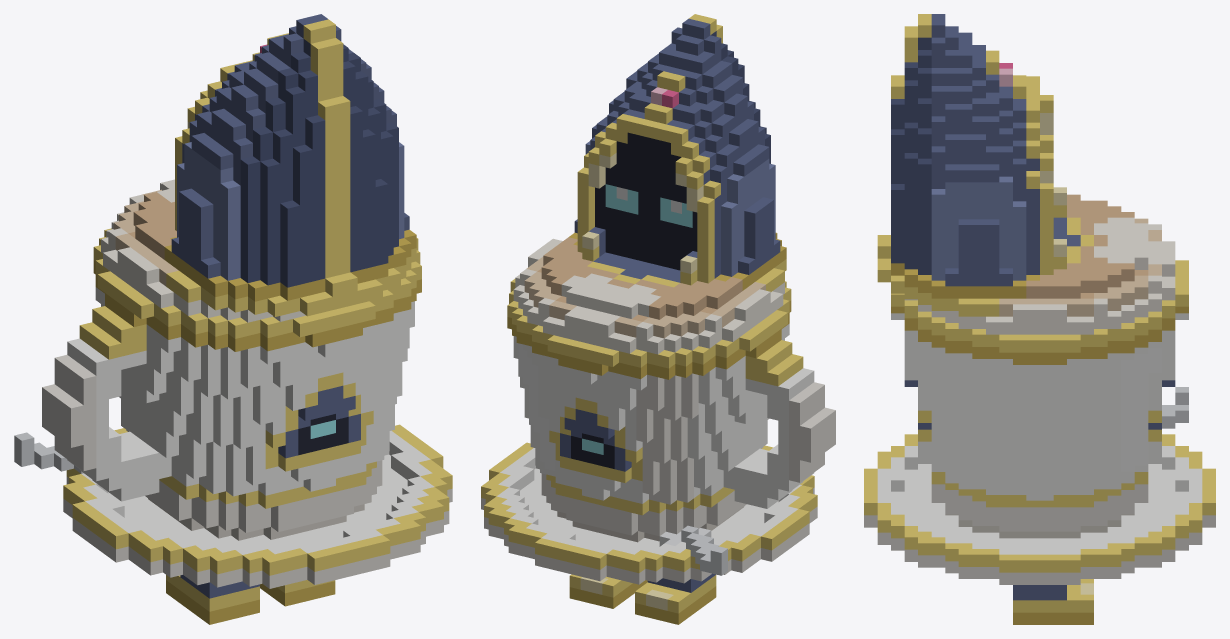
File: DominussoCappuccinoso.glb
The picture shows the model from 3 angles, left to right: view 1: azimuth 30°, elevation 25°; view 2: azimuth 150°, elevation 25°; view 3: azimuth 270°, elevation 25°; orthographic projection. The views are drawn at different scales.
Parts seen in each view (by area): view 1: geometry_0; view 2: geometry_0; view 3: geometry_0.
Boxes of the visible parts, bbox=[...] form: geometry_0: bbox=[14, 14, 452, 624]; geometry_0: bbox=[481, 14, 835, 624]; geometry_0: bbox=[864, 14, 1215, 624].
Size of the model in its own units: 0.617 by 1 by 0.5532.
